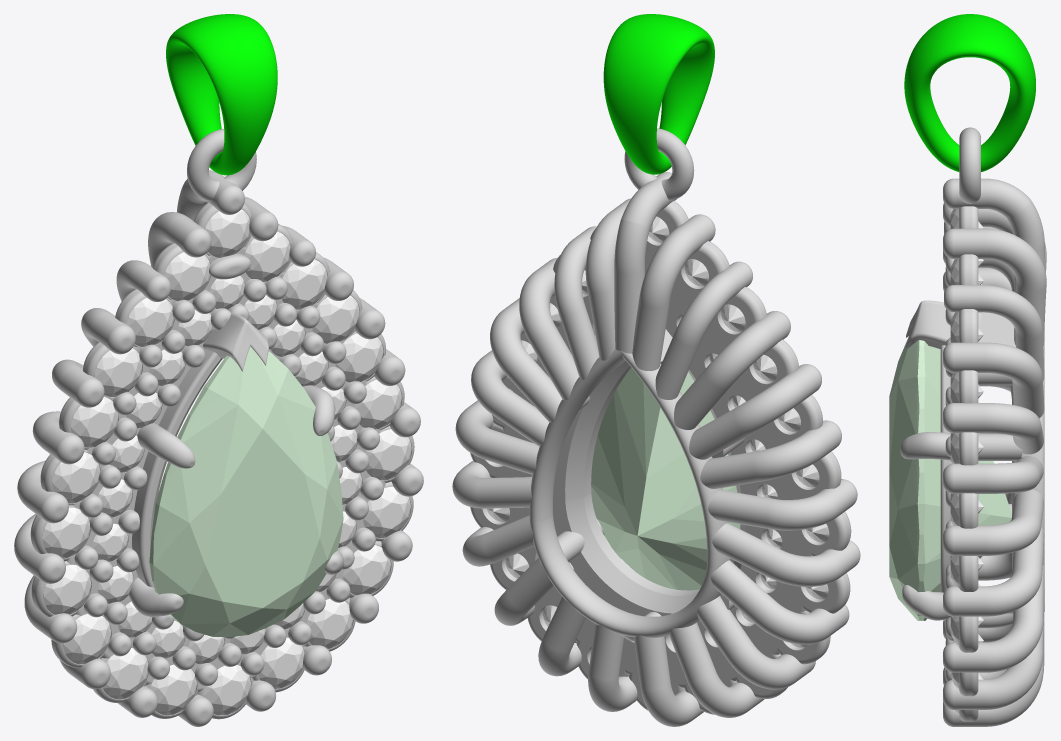
3 renders of one model, left to right at view 1: azimuth 30°, elevation 25°; view 2: azimuth 150°, elevation 25°; view 3: azimuth 270°, elevation 25°, orthographic.
Visible parts, largest first — view 1: PG gota dender.3dm, Brillante (×37), Bail; view 2: PG gota dender.3dm, Bail; view 3: PG gota dender.3dm, Bail, Brillante (×7).
Part boxes in pixels (<box>): PG gota dender.3dm: <box>14,129,423,726</box>; Brillante (×37): <box>42,209,411,715</box>; Bail: <box>166,14,277,175</box>; PG gota dender.3dm: <box>452,128,860,726</box>; Bail: <box>603,14,714,174</box>; PG gota dender.3dm: <box>889,127,1046,726</box>; Bail: <box>904,14,1035,171</box>; Brillante (×7): <box>950,258,983,646</box>.
Bounding box in the file's own units: 1.97 × 3.41 × 0.7074.
